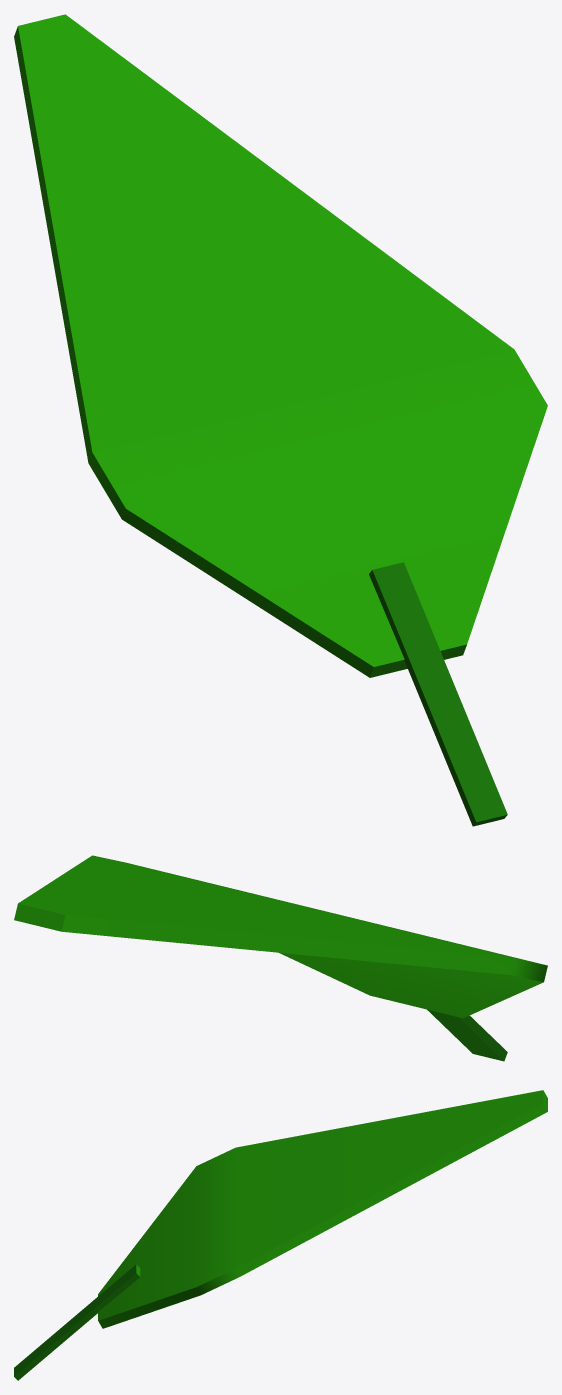
Rendered from Leaf.fbx.
The picture shows the model from 3 angles, top to bottom: view 1: azimuth 30°, elevation 25°; view 2: azimuth 150°, elevation 25°; view 3: azimuth 270°, elevation 25°; orthographic projection. The views are drawn at different scales.
Parts seen in each view (by area): view 1: pCube3; view 2: pCube3; view 3: pCube3.
Part boxes in pixels (box(x1,y1,x2,y2)): pCube3: box(14, 14, 547, 826); pCube3: box(14, 855, 547, 1061); pCube3: box(14, 1090, 547, 1380).
Size of the model in its own units: 1.71 by 1.84 by 3.19.
